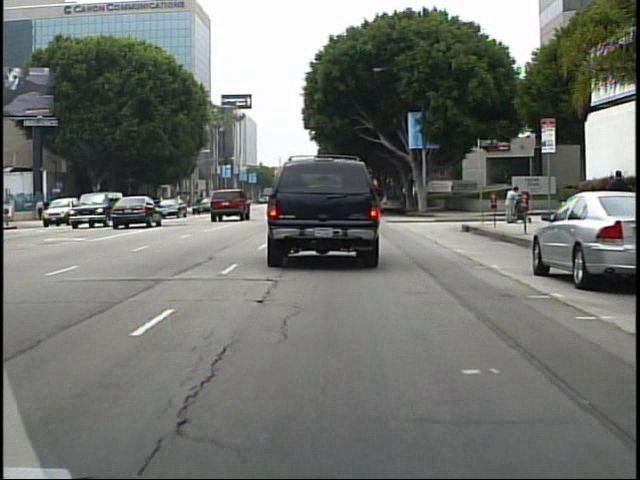person: (604, 165, 628, 234), (503, 183, 520, 226)
